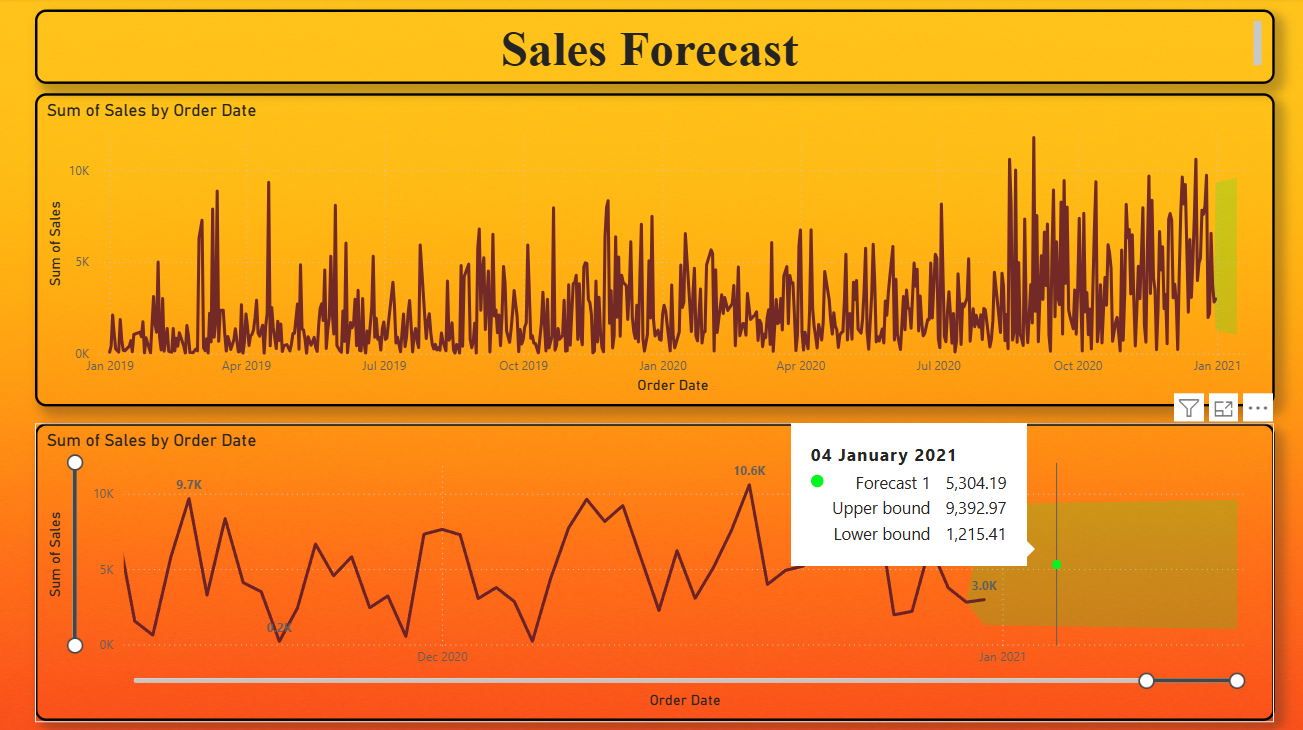

The page's visual inventory and layout, read from the dashboard file:
{"tool":"powerbi","page":{"name":"Page 2","canvas":[1280,720],"ordinal":1},"visuals":[{"type":"lineChart","fields":{"Y":["Sum(Sheet1.Sales)"],"Category":["Sheet1.Order Date"]},"box":[33.8,93.8,1212.5,306.2],"z":0},{"type":"lineChart","fields":{"Y":["Sum(Sheet1.Sales)"],"Category":["Sheet1.Order Date"]},"box":[33.8,417.5,1212.5,291.2],"z":1000},{"type":"textbox","box":[33.8,12.5,1212.5,72.5],"z":2000}]}

Visuals, with their boxes in screenshot pixels (x1, y1, x2, y2), scaled from the page's 1280x720 canvas onto the 1303x730 screenshot:
lineChart - Sum(Sheet1.Sales) x Sheet1.Order Date: rect(34, 95, 1269, 406)
lineChart - Sum(Sheet1.Sales) x Sheet1.Order Date: rect(34, 423, 1269, 719)
textbox: rect(34, 13, 1269, 86)
